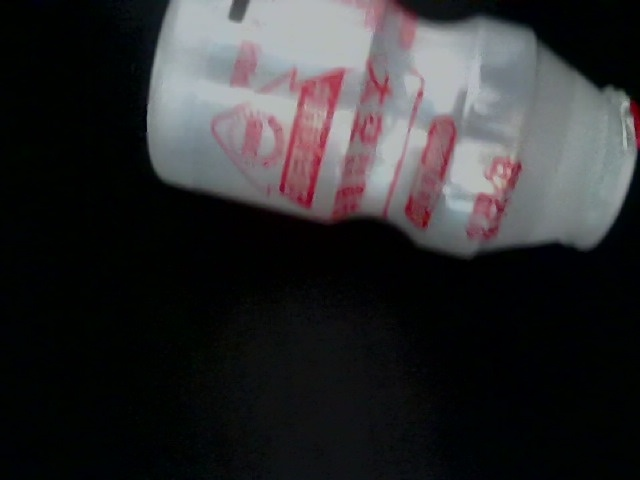CYLJ: (36, 343, 325, 480)
